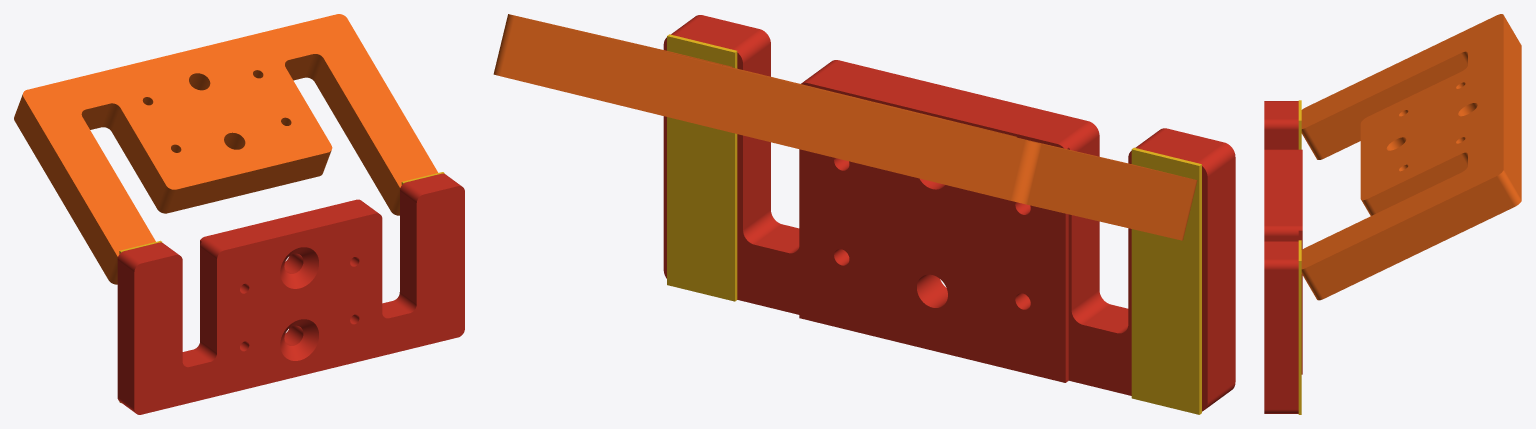
Rendered from HR-V0_J2_positive_stop_contact_candidate.glb.
3 renders of one model, left to right at view 1: azimuth 30°, elevation 25°; view 2: azimuth 150°, elevation 25°; view 3: azimuth 270°, elevation 25°, orthographic. The views are drawn at different scales.
Visible parts, largest first — view 1: MV0-C06_MOVING_STRIKER_AT_CONTACT, MV0-C07_FIXED_CATCH; view 2: MV0-C07_FIXED_CATCH, MV0-C06_MOVING_STRIKER_AT_CONTACT, BUMPER_SR1_MAXIMUM_ENVELOPE_SELECTION_REQUIRED; view 3: MV0-C06_MOVING_STRIKER_AT_CONTACT, MV0-C07_FIXED_CATCH, BUMPER_SR1_MAXIMUM_ENVELOPE_SELECTION_REQUIRED.
Part boxes in pixels (x1,y1,x2,y2): MV0-C06_MOVING_STRIKER_AT_CONTACT: [14, 14, 438, 284]; MV0-C07_FIXED_CATCH: [117, 173, 464, 414]; MV0-C07_FIXED_CATCH: [663, 15, 1235, 411]; MV0-C06_MOVING_STRIKER_AT_CONTACT: [493, 14, 1197, 240]; BUMPER_SR1_MAXIMUM_ENVELOPE_SELECTION_REQUIRED: [667, 34, 1201, 414]; MV0-C06_MOVING_STRIKER_AT_CONTACT: [1301, 14, 1521, 300]; MV0-C07_FIXED_CATCH: [1264, 101, 1302, 413]; BUMPER_SR1_MAXIMUM_ENVELOPE_SELECTION_REQUIRED: [1298, 100, 1301, 414].
Size of the model in its own units: 96 by 66.05 by 63.66.
